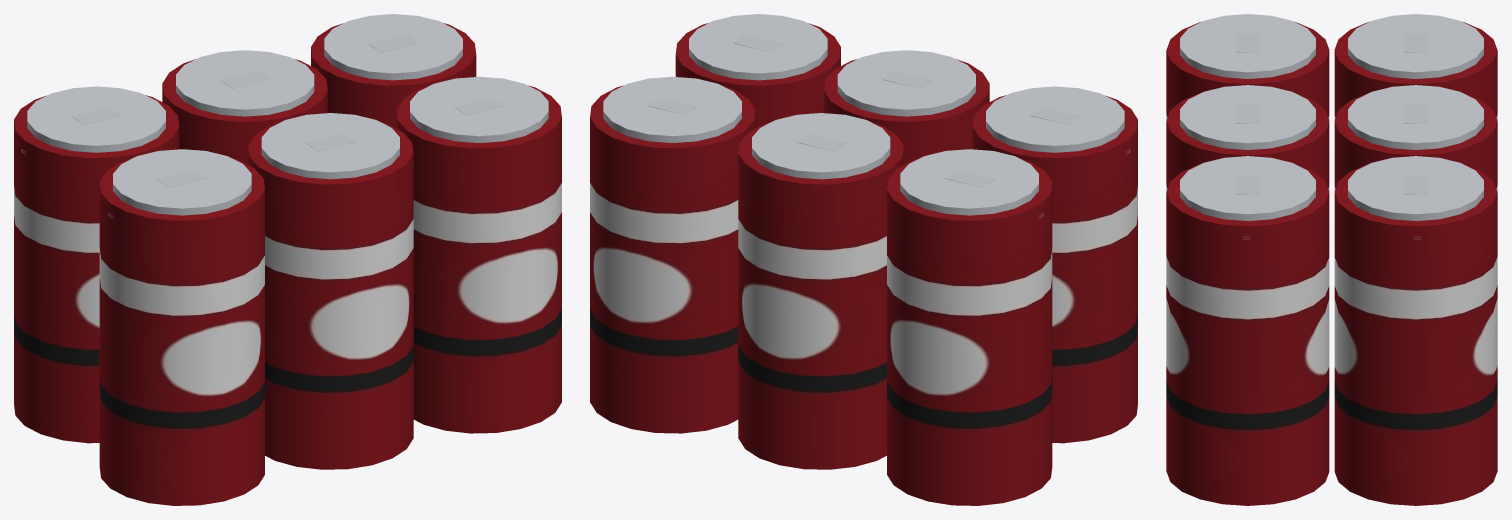
Rendered from can_sixpack_cola.glb.
3 views of the same model, side by side, from view 1: azimuth 30°, elevation 25°; view 2: azimuth 150°, elevation 25°; view 3: azimuth 270°, elevation 25° (orthographic). The views are drawn at different scales.
Parts seen in each view (by area): view 1: can_sixpack_cola; view 2: can_sixpack_cola; view 3: can_sixpack_cola.
Part boxes in pixels (box(x1,y1,x2,y2)): can_sixpack_cola: box(14, 14, 561, 505); can_sixpack_cola: box(590, 14, 1137, 505); can_sixpack_cola: box(1166, 14, 1497, 505).
Bounding box in the file's own units: 0.2 × 0.1261 × 0.132.
Materials: 4 (1 with a texture image).
